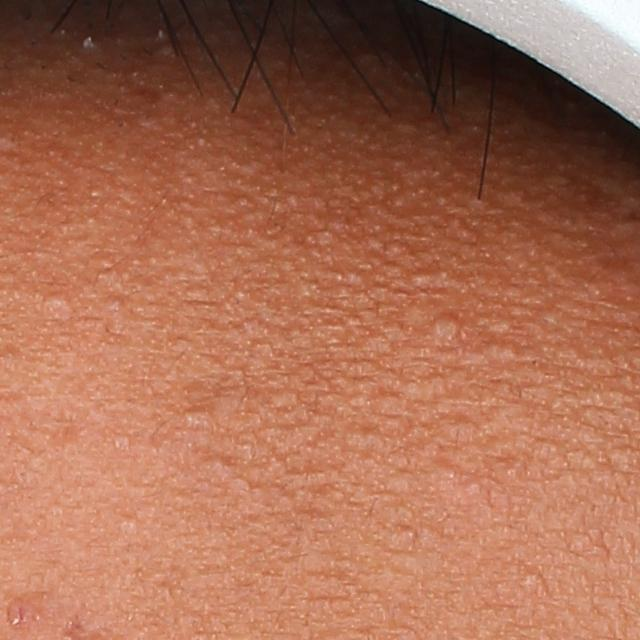comedo: (432, 313, 463, 347), (175, 401, 211, 429), (48, 289, 76, 316), (521, 568, 545, 586)
